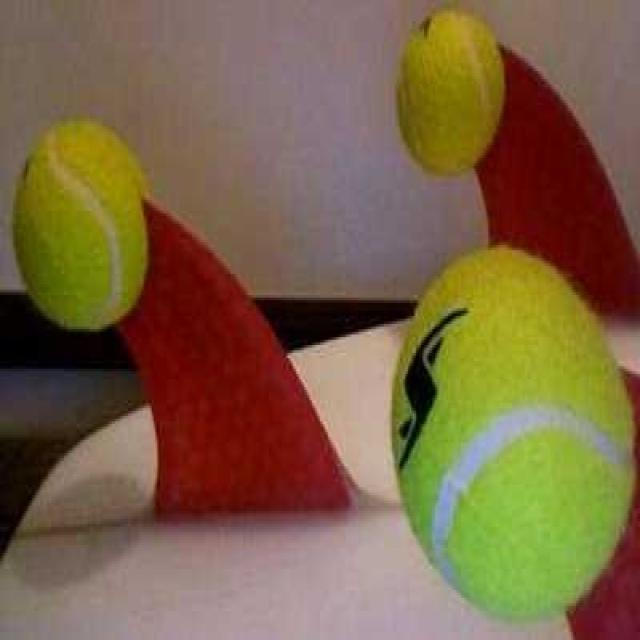Tennis_Ball: (394, 242, 632, 632), (12, 122, 152, 327), (396, 12, 506, 174)
